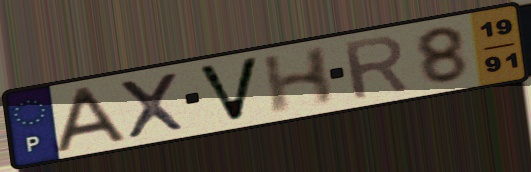8: (411, 23, 474, 86)
A: (50, 83, 131, 156)
H: (259, 42, 336, 118)
R: (339, 32, 413, 103)
V: (192, 54, 263, 125)
X: (114, 69, 190, 142)
